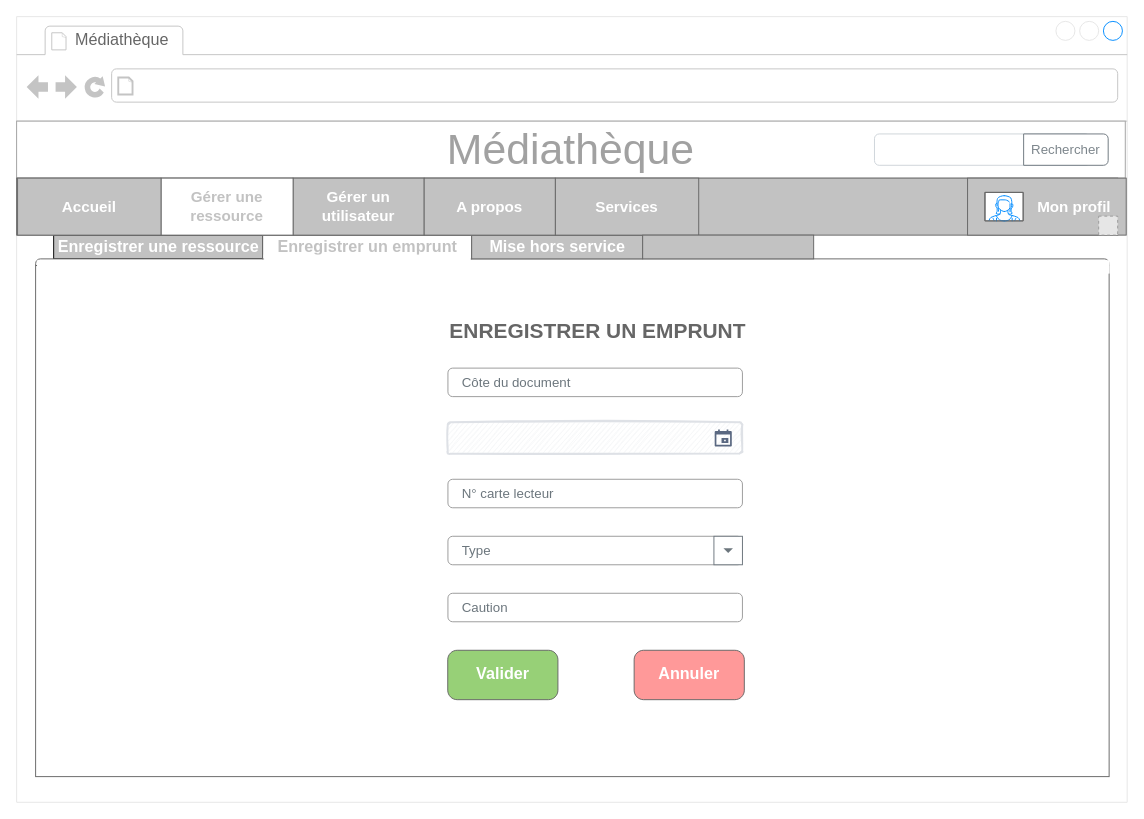
Image size: 1144x819. Some labels were removed from this diagram. Grey dashed boxes stand in for pictures. The centre of each missing label's shape, as x and y in pixels:
"Date d'emprunt" goes at point (594, 437).
"https://www.mediatheque.fr" goes at point (258, 85).
"Liste des ressources" goes at point (728, 246).
